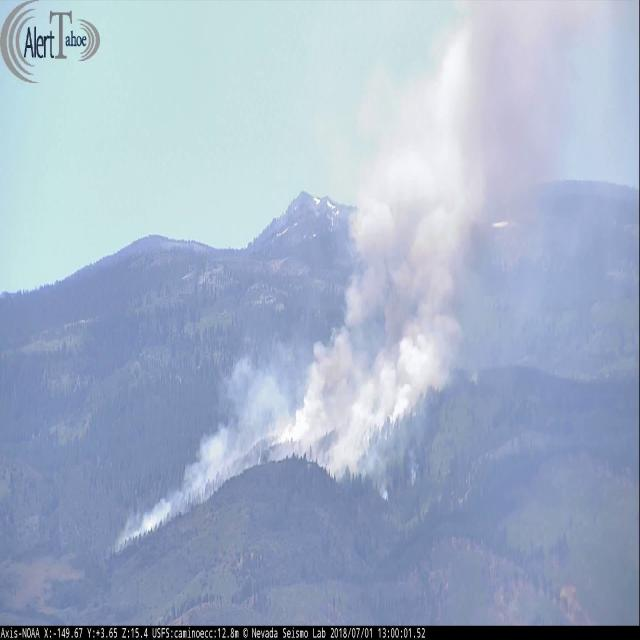smoke: (112, 0, 637, 556)
